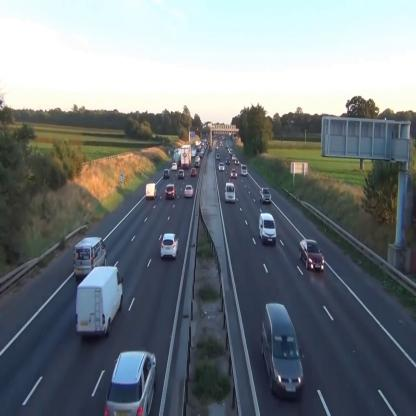car: (106, 352, 157, 416), (299, 240, 324, 272), (160, 232, 178, 258), (225, 183, 236, 202), (260, 188, 271, 204), (165, 184, 176, 198), (184, 185, 193, 197), (241, 164, 248, 176), (178, 169, 184, 178), (219, 162, 225, 171), (231, 169, 237, 178), (164, 169, 170, 177), (191, 167, 196, 176)
lorry: (261, 302, 304, 401), (76, 267, 123, 337), (73, 237, 107, 276), (258, 213, 276, 246), (181, 144, 191, 168), (146, 183, 157, 198)
